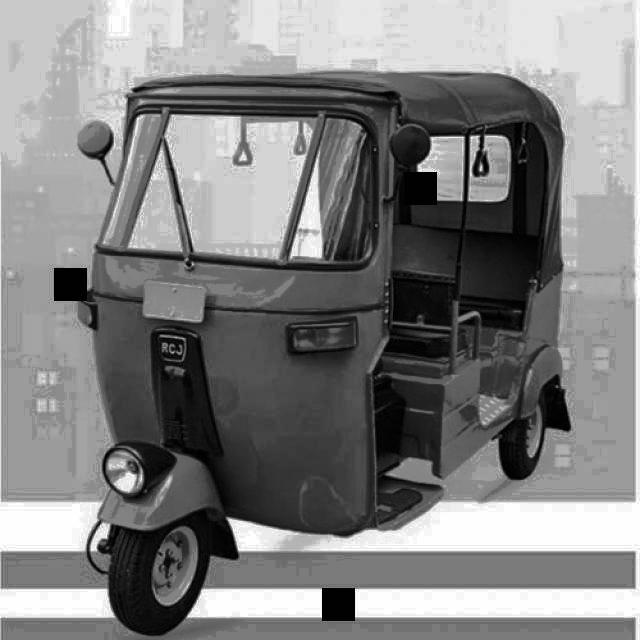Auto-Rickshaw: (51, 65, 631, 639)
